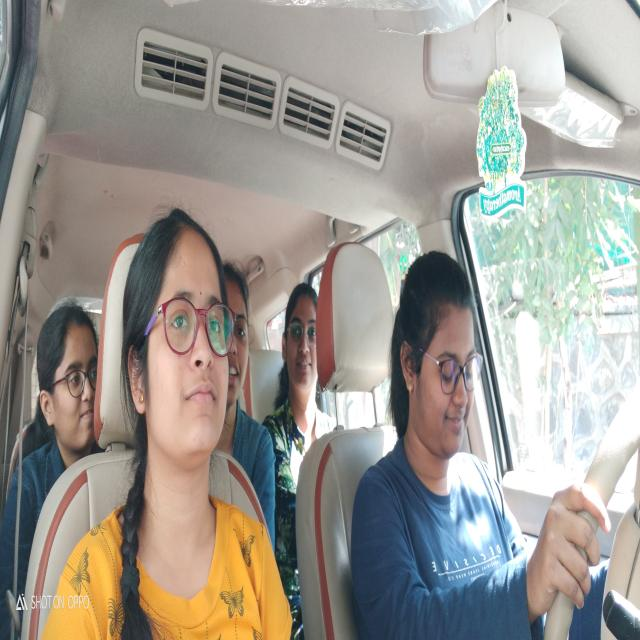drowsy: (389, 250, 482, 462)
person: (120, 202, 235, 478), (34, 300, 103, 457), (276, 278, 321, 412), (224, 260, 252, 406)
